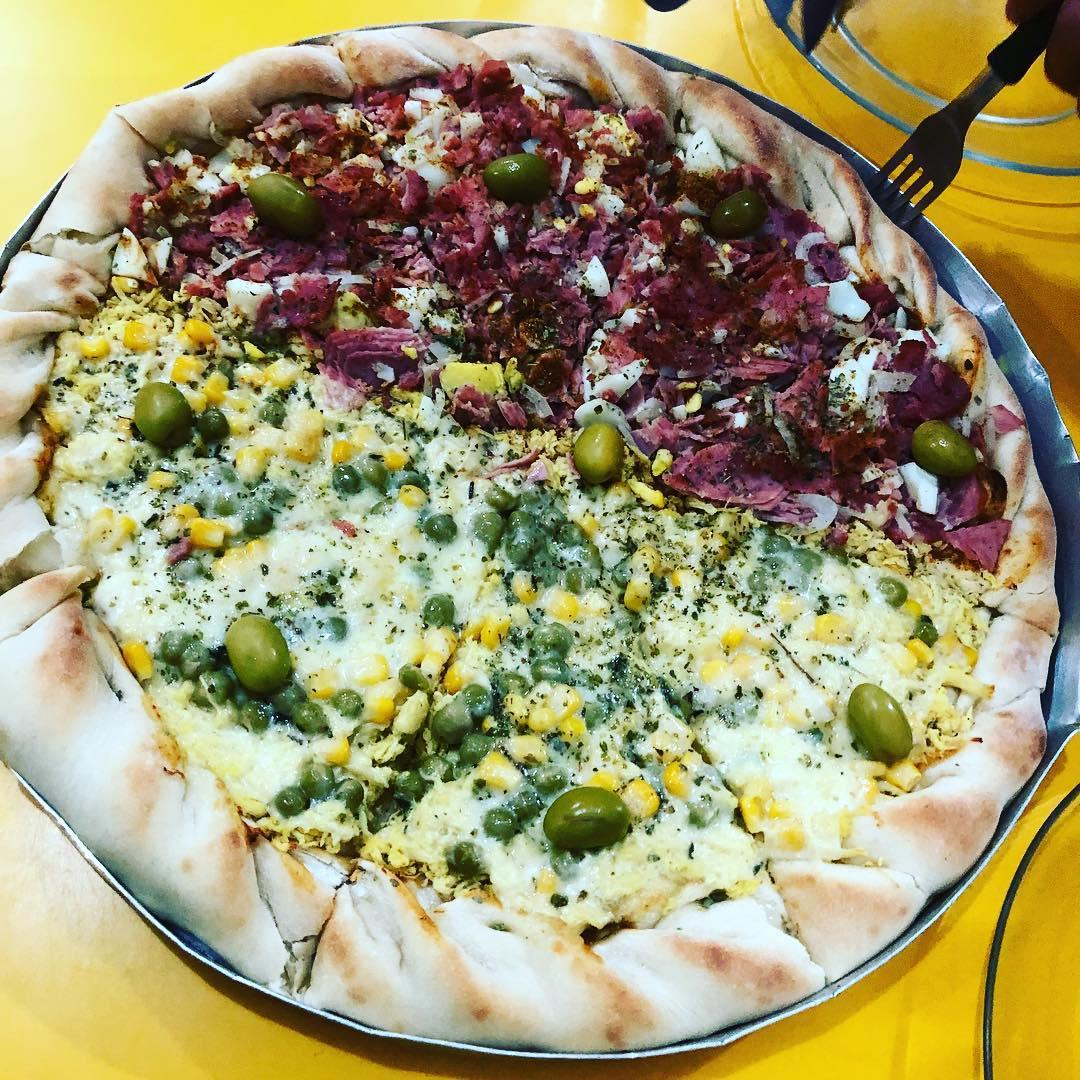Corn: (303, 665, 400, 756), (727, 773, 801, 853), (167, 495, 230, 556), (701, 625, 754, 697), (285, 417, 362, 466), (409, 613, 454, 682), (805, 599, 874, 644), (73, 325, 156, 361), (621, 533, 657, 613), (545, 571, 594, 621), (175, 315, 209, 386), (535, 693, 582, 736), (625, 767, 654, 828), (485, 733, 513, 784), (475, 611, 508, 652), (192, 370, 229, 405), (893, 637, 925, 676), (391, 473, 421, 512)
Ham: (663, 435, 787, 512), (325, 327, 435, 383), (252, 280, 336, 342), (950, 483, 1007, 572), (744, 273, 819, 334), (430, 178, 488, 247), (706, 348, 778, 387), (374, 235, 430, 281)
Olives: (537, 779, 628, 856), (835, 677, 906, 757), (911, 413, 998, 477), (125, 373, 190, 446), (229, 609, 282, 686), (255, 169, 314, 238), (477, 149, 545, 202), (573, 423, 625, 480), (709, 187, 768, 236)
Onion: (799, 237, 871, 322), (577, 333, 625, 428), (824, 339, 871, 413), (109, 226, 159, 280), (670, 127, 727, 172), (901, 462, 944, 518), (220, 275, 274, 319), (582, 260, 617, 295), (796, 485, 824, 521)
Pizza: (0, 32, 1080, 1061)
